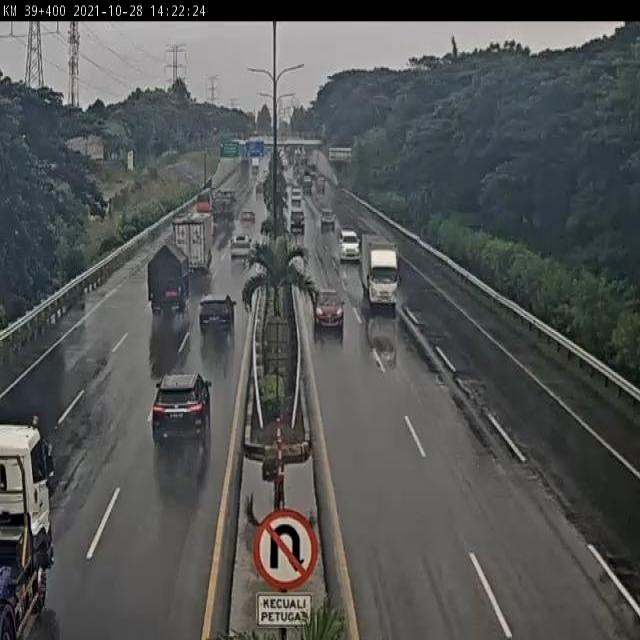Car: (150, 369, 213, 446), (311, 288, 346, 333), (198, 294, 237, 332), (338, 229, 361, 261), (230, 233, 252, 258), (320, 208, 336, 232), (290, 209, 305, 234), (240, 209, 256, 224), (291, 188, 302, 204), (316, 176, 326, 193), (255, 181, 264, 195)
Truck: (0, 420, 57, 640), (144, 238, 190, 312), (360, 233, 403, 307), (171, 210, 213, 275), (209, 190, 237, 224), (194, 188, 214, 214), (302, 174, 312, 194), (251, 158, 260, 171)
